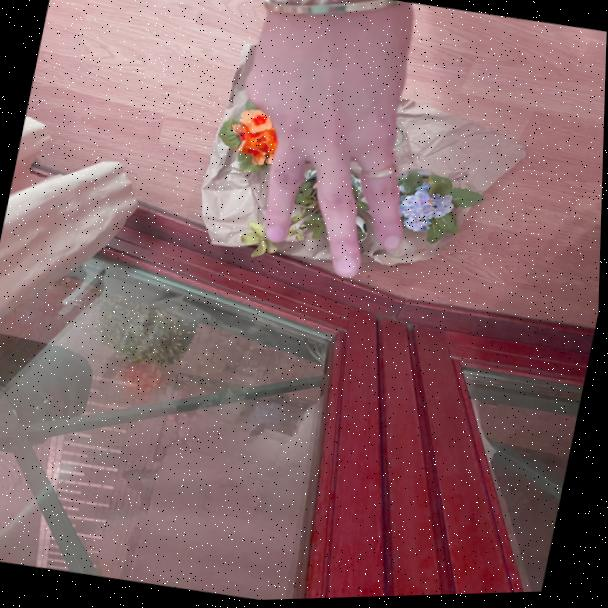five: (189, 0, 477, 303)
